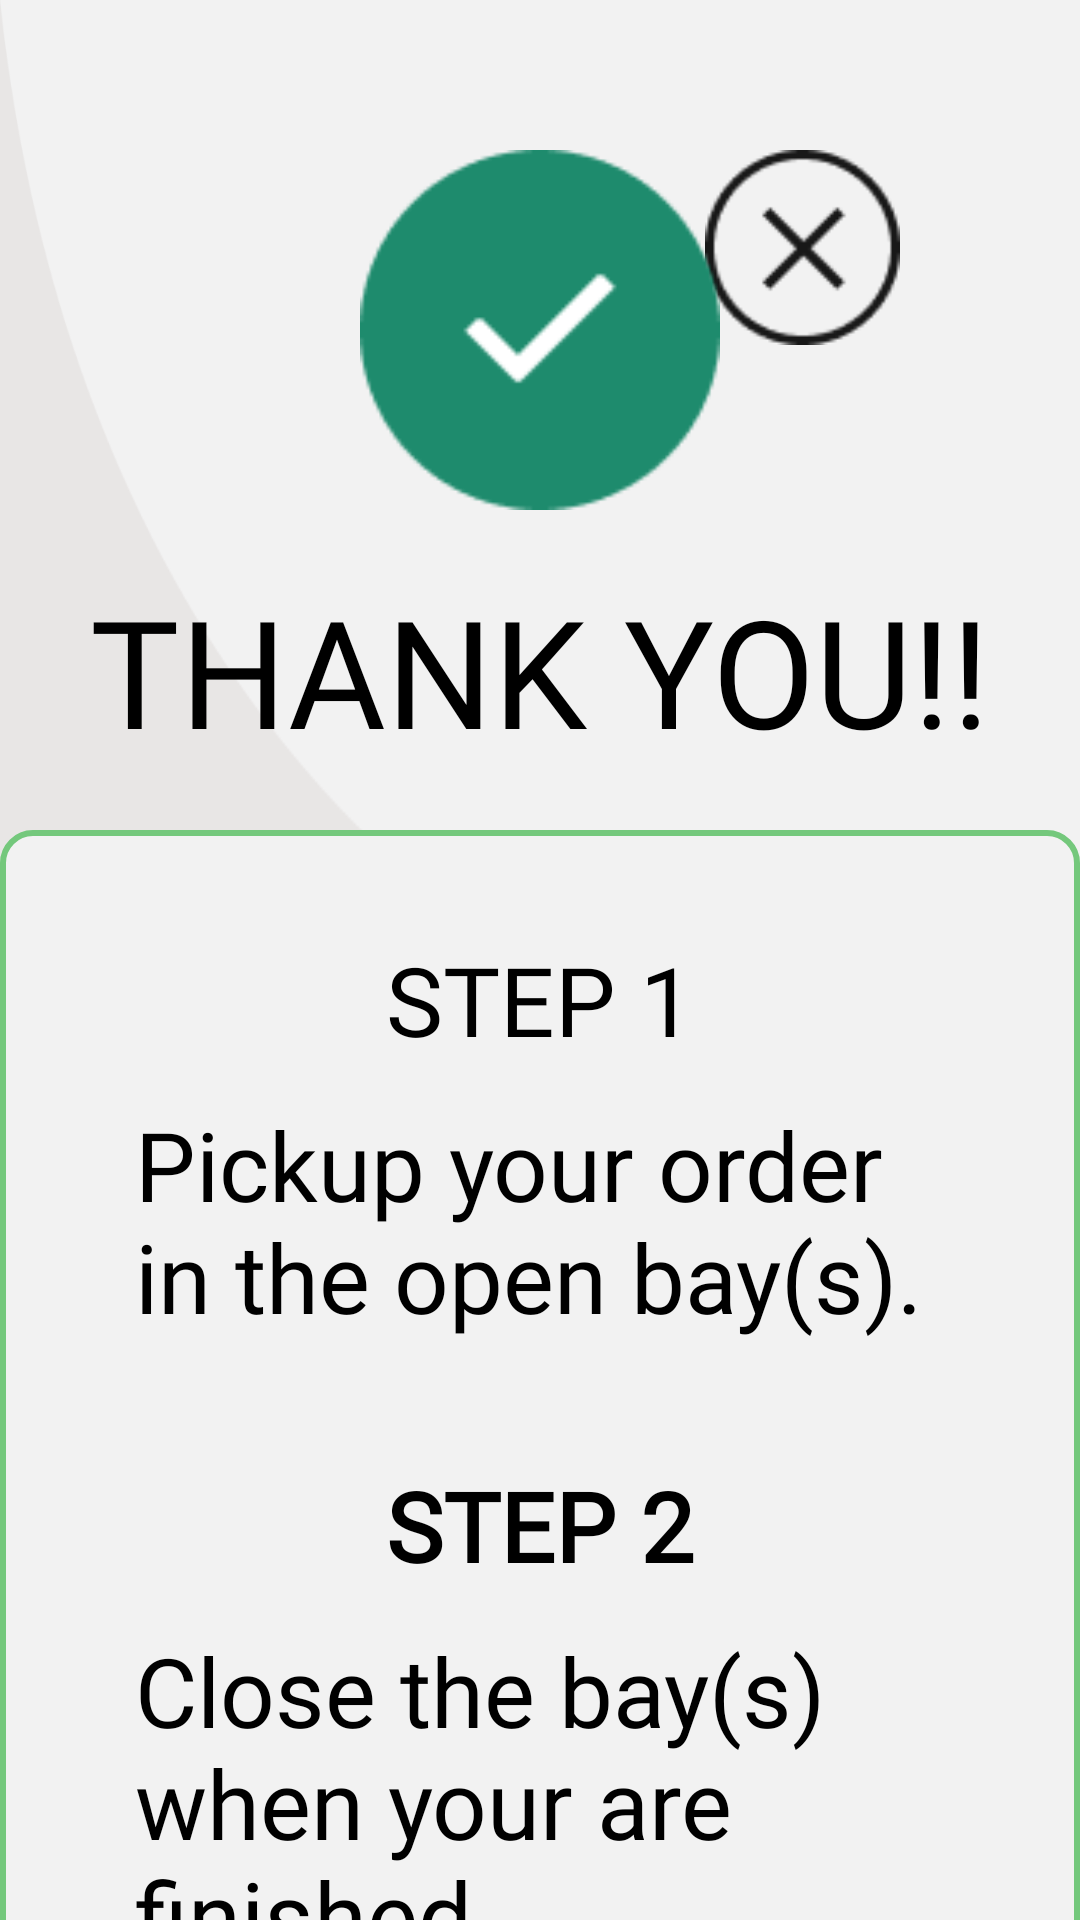

Point at icon controls on the screen. Image size 1080 × 1920, points as [x,y].
cancel: [772,262]
success: [540,330]
